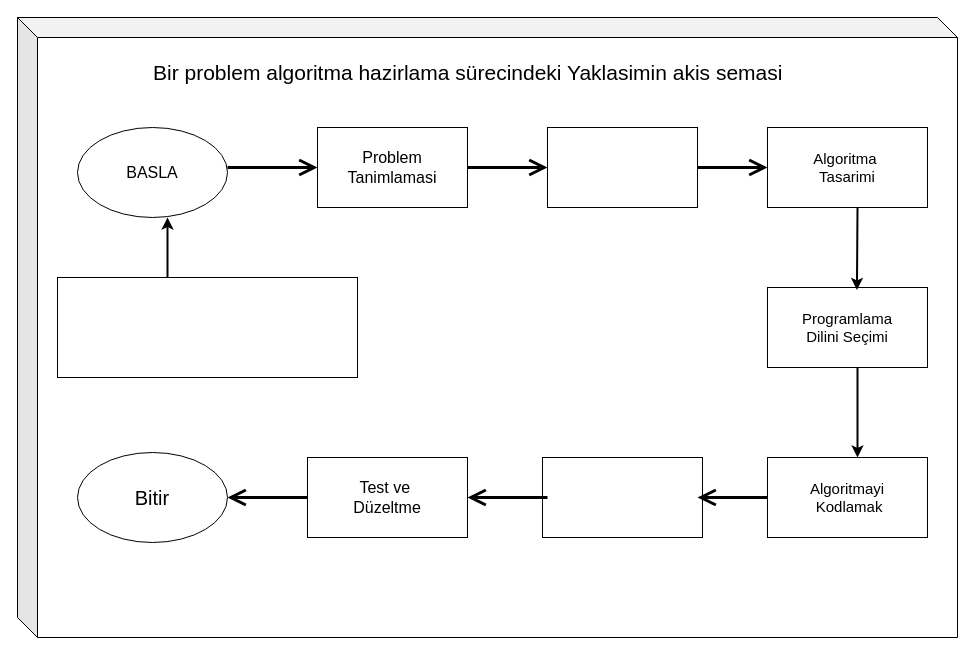
Image size: 975x655. Some labels were removed from this diagram. The centre of each missing label's shape, as x and y in pixels:
Algoritma Analizi: the point at 622,497
Girdi, Çikti ve Amaci belirle: the point at 622,167
Python veri yapilari ve Algoritmalari Ders 5 FEYZA OKTAY - 2026: the point at 207,327
